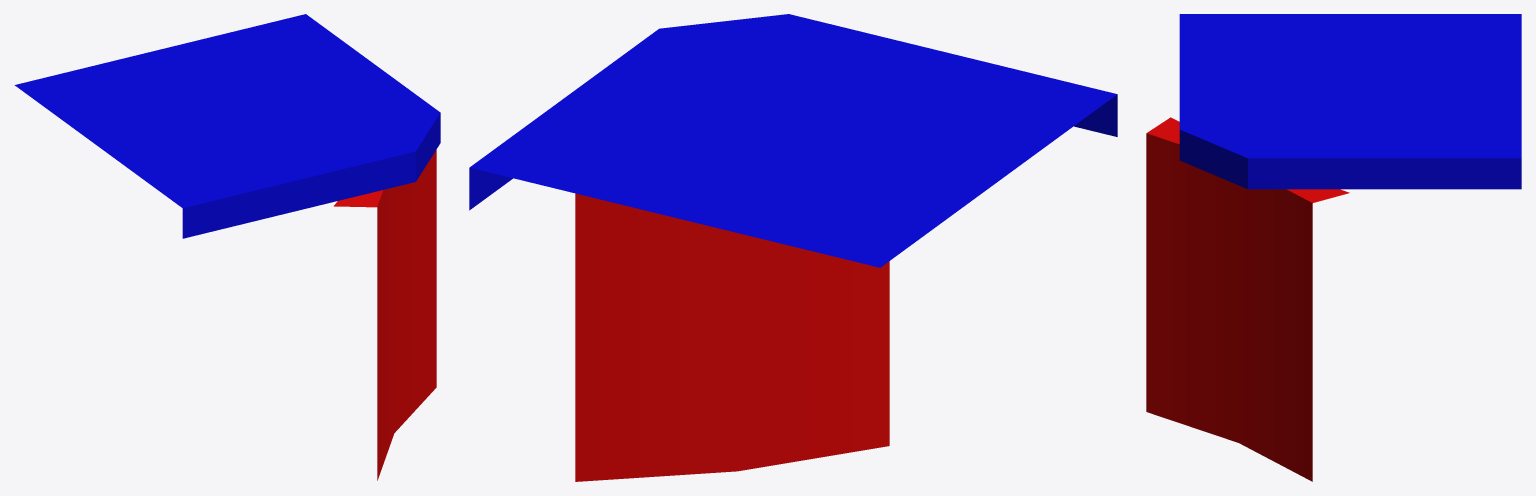
Rendered from Küchentheke_3_ecke_low.fbx.
3 views of the same model, side by side, from view 1: azimuth 30°, elevation 25°; view 2: azimuth 150°, elevation 25°; view 3: azimuth 270°, elevation 25° (orthographic). The views are drawn at different scales.
Visible parts, largest first — view 1: Küchentheke_3_ecke_low; view 2: Küchentheke_3_ecke_low; view 3: Küchentheke_3_ecke_low.
Part boxes in pixels (bbox=[...]): Küchentheke_3_ecke_low: bbox=[14, 14, 440, 480]; Küchentheke_3_ecke_low: bbox=[469, 14, 1117, 481]; Küchentheke_3_ecke_low: bbox=[1146, 14, 1521, 481].
Bounding box in the file's own units: 1.1 × 1 × 1.1.
